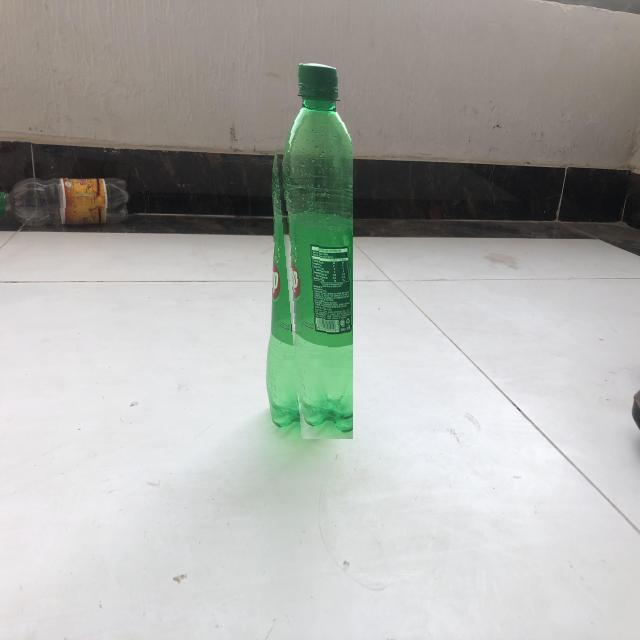plastic bottle: (268, 59, 353, 440), (0, 173, 134, 228)
